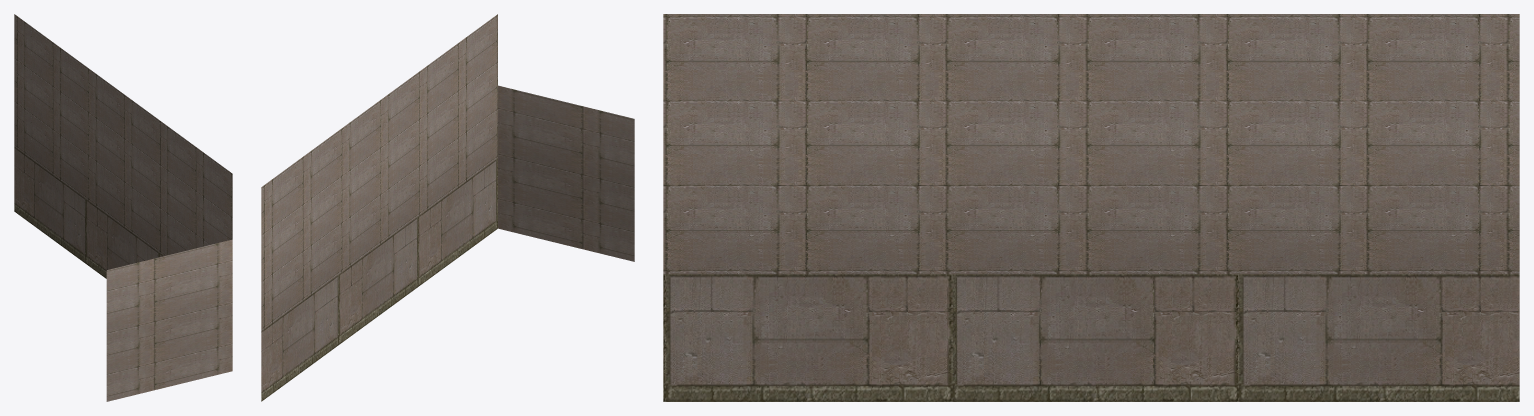
Rendered from M2Zone2_DullbackGrndWall_A.glb.
3 views of the same model, side by side, from view 1: azimuth 30°, elevation 25°; view 2: azimuth 150°, elevation 25°; view 3: azimuth 270°, elevation 25° (orthographic). The views are drawn at different scales.
Visible parts, largest first — view 1: M2ZONE2_DULLBACKGRNDWALL_A; view 2: M2ZONE2_DULLBACKGRNDWALL_A; view 3: M2ZONE2_DULLBACKGRNDWALL_A.
Boxes of the visible parts, x1,y1,x2,y2 form: M2ZONE2_DULLBACKGRNDWALL_A: [14, 14, 232, 401]; M2ZONE2_DULLBACKGRNDWALL_A: [261, 14, 634, 401]; M2ZONE2_DULLBACKGRNDWALL_A: [663, 14, 1519, 401].
Size of the model in its own units: 8 by 12 by 24.
2 materials, 2 textured.
